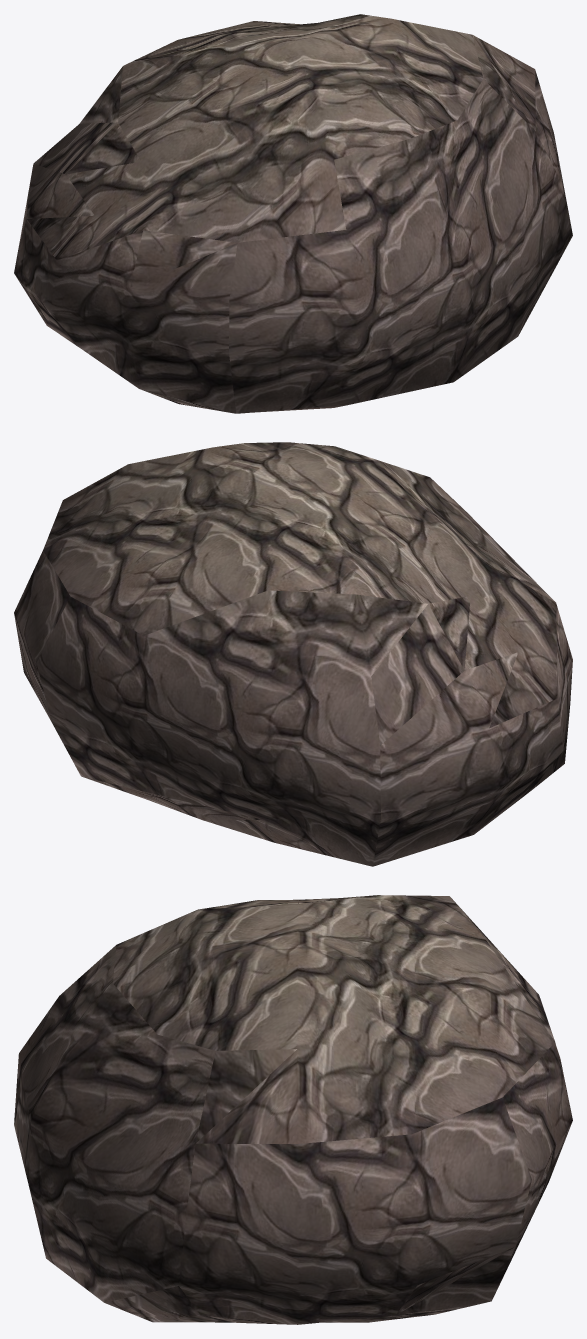
File: rock_0.glb
3 views of the same model, one above another, from view 1: azimuth 30°, elevation 25°; view 2: azimuth 150°, elevation 25°; view 3: azimuth 270°, elevation 25° (orthographic). The views are drawn at different scales.
Visible parts, largest first — view 1: Rock; view 2: Rock; view 3: Rock.
Boxes of the visible parts, left/top/right/bottom form: Rock: left=14, top=14, right=572, bottom=413; Rock: left=14, top=442, right=572, bottom=866; Rock: left=14, top=895, right=572, bottom=1324.
Bounding box in the file's own units: 1.96 × 1.15 × 1.61.
1 material, 1 textured.
